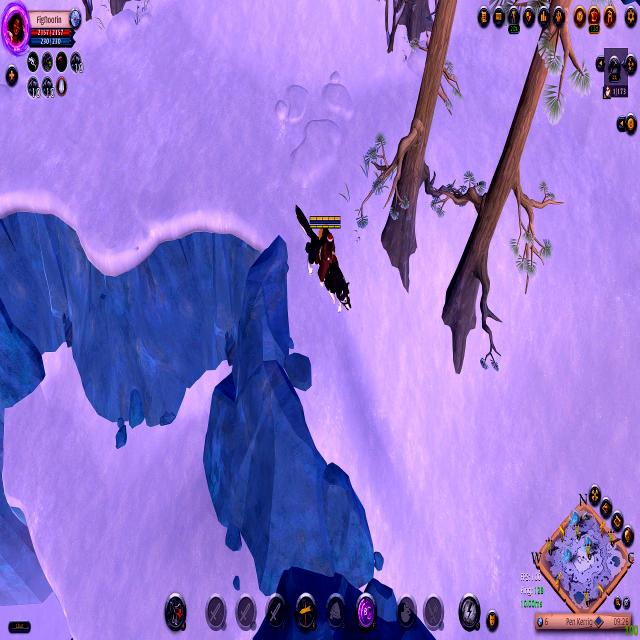red: (291, 196, 359, 322)
